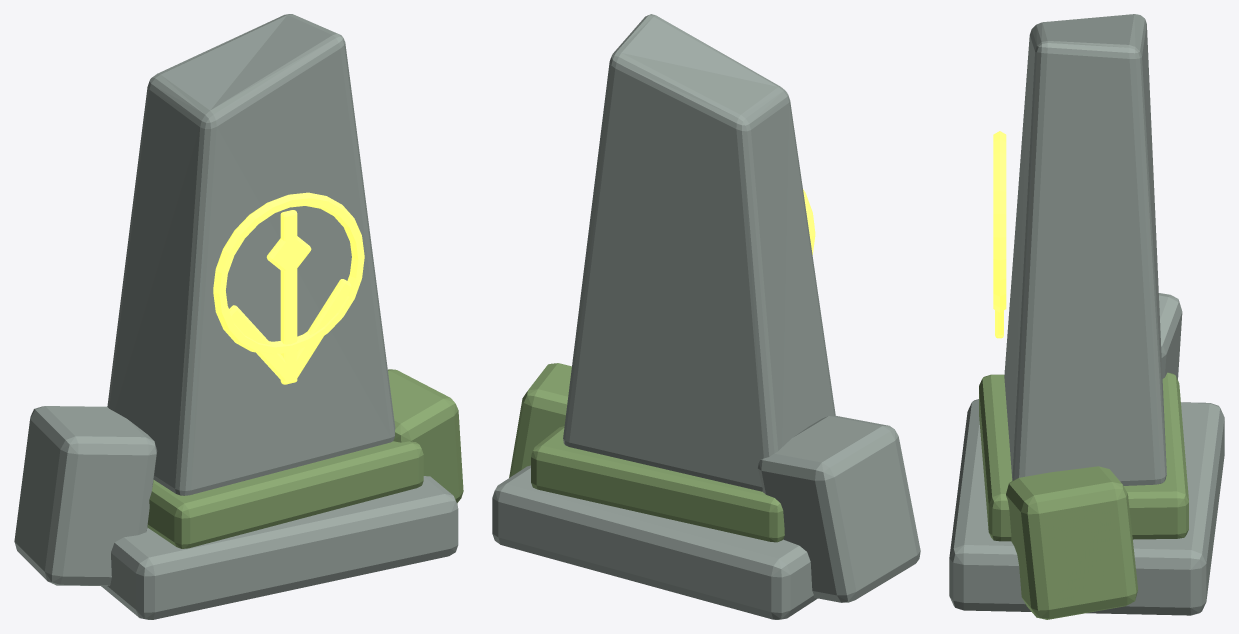
The model's file is SM_EmbermereWaystone_01.fbx.
3 renders of one model, left to right at view 1: azimuth 30°, elevation 25°; view 2: azimuth 150°, elevation 25°; view 3: azimuth 270°, elevation 25°, orthographic. The views are drawn at different scales.
Parts seen in each view (by area): view 1: SM_EmbermereWaystone_01; view 2: SM_EmbermereWaystone_01; view 3: SM_EmbermereWaystone_01.
Boxes of the visible parts, bbox=[...] form: SM_EmbermereWaystone_01: bbox=[14, 14, 463, 619]; SM_EmbermereWaystone_01: bbox=[492, 14, 920, 619]; SM_EmbermereWaystone_01: bbox=[949, 14, 1224, 619].
Size of what is drawn, in the model's own units: 164 by 91.95 by 196.
